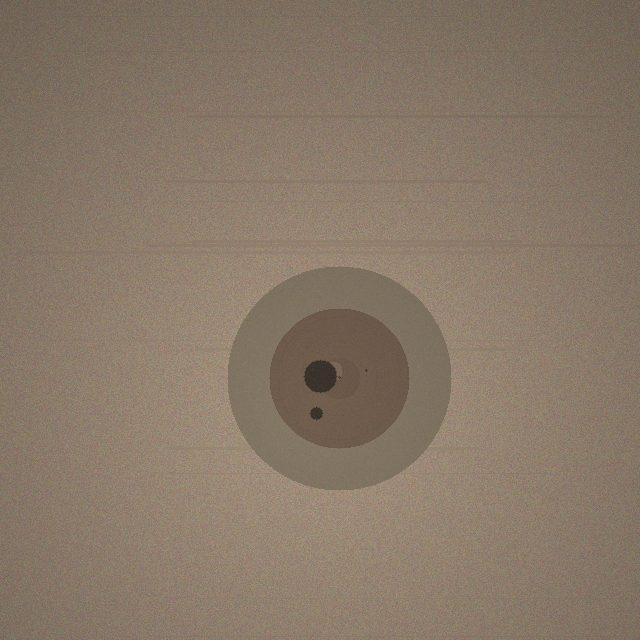shrinkage: (227, 266, 451, 490)
